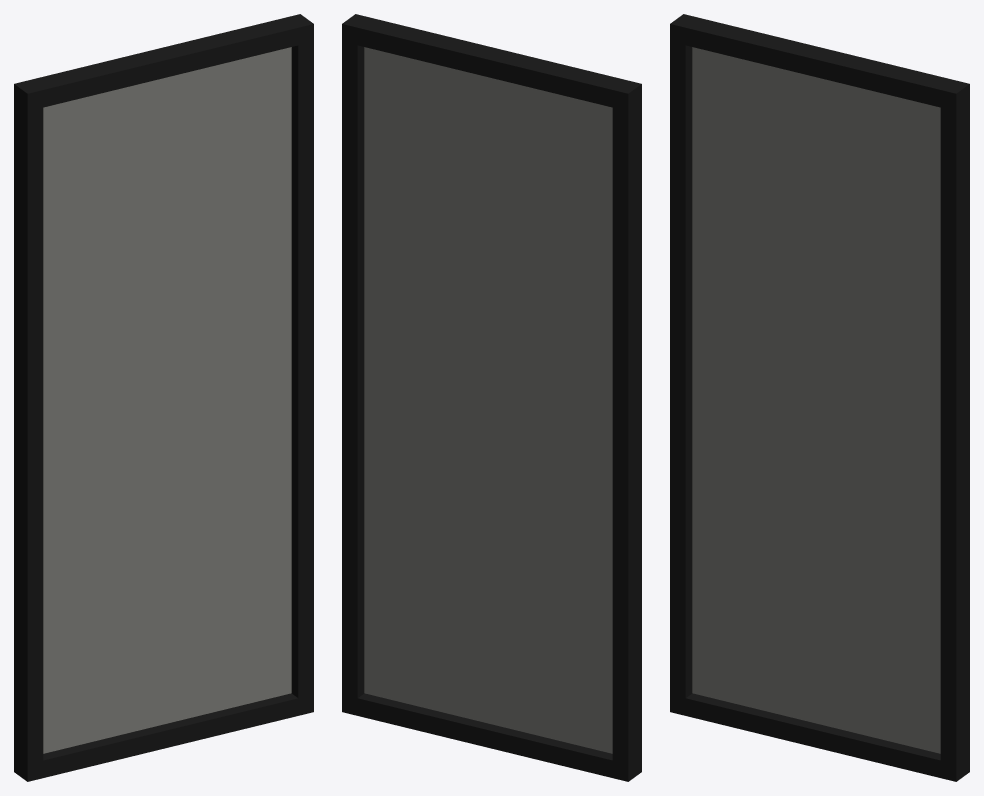
The model's file is LIH0110011.fbx.
3 views of the same model, side by side, from view 1: azimuth 30°, elevation 25°; view 2: azimuth 150°, elevation 25°; view 3: azimuth 330°, elevation 25° (orthographic).
Parts seen in each view (by area): view 1: smLIH0110011; view 2: smLIH0110011; view 3: smLIH0110011.
Boxes of the visible parts, bbox=[...] form: smLIH0110011: bbox=[14, 14, 313, 781]; smLIH0110011: bbox=[342, 14, 641, 781]; smLIH0110011: bbox=[670, 14, 969, 781].
Size of the model in its own units: 127 by 291 by 10.41.
1 material, 1 textured.
